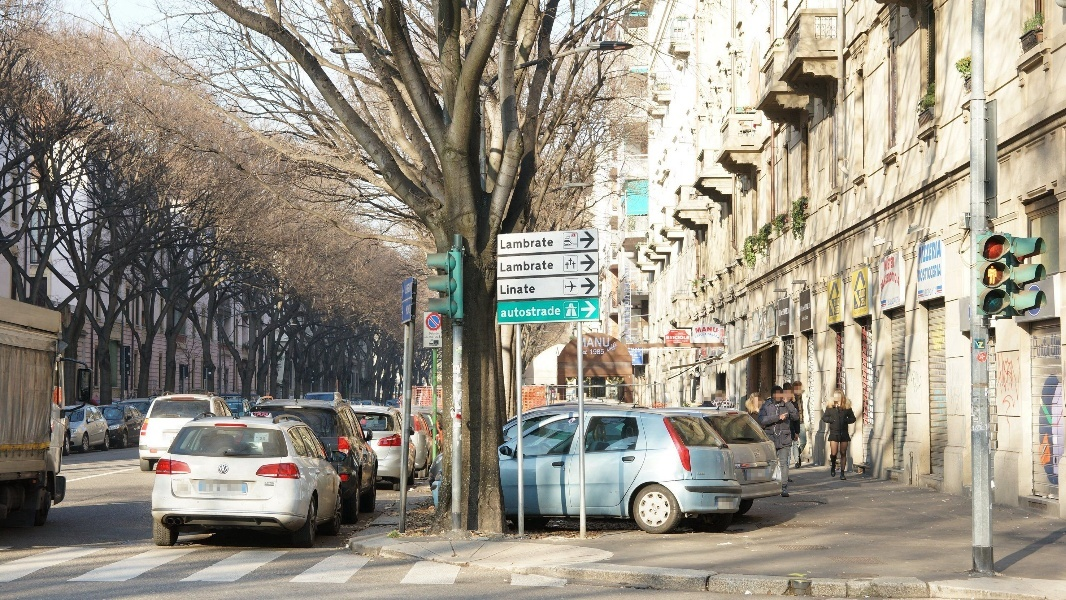text: (625, 261, 640, 340), (997, 352, 1008, 421), (1009, 352, 1020, 421), (853, 287, 864, 316), (881, 272, 896, 292), (929, 241, 942, 264), (627, 346, 640, 364), (833, 296, 841, 323), (929, 264, 941, 282), (1041, 335, 1050, 357), (513, 237, 528, 250), (529, 237, 544, 250), (801, 302, 811, 321), (920, 241, 928, 264), (513, 306, 528, 318), (529, 306, 544, 318), (545, 306, 560, 318), (513, 261, 528, 272), (529, 261, 544, 272), (513, 284, 528, 295), (885, 257, 896, 272), (593, 337, 608, 348), (919, 264, 928, 282), (501, 237, 512, 250), (501, 306, 512, 318), (405, 282, 416, 294), (1034, 335, 1040, 357), (1051, 333, 1056, 359), (609, 342, 619, 355), (501, 261, 512, 272), (501, 284, 512, 295), (545, 237, 554, 250), (406, 304, 416, 315), (1057, 333, 1061, 359), (545, 261, 554, 272), (978, 342, 992, 349), (779, 307, 784, 326), (785, 307, 790, 326), (829, 296, 832, 323), (929, 288, 938, 297), (888, 297, 896, 307), (705, 327, 718, 333), (529, 284, 536, 295), (593, 349, 605, 355), (897, 272, 900, 292), (673, 336, 688, 340), (865, 287, 867, 316), (673, 332, 687, 336), (641, 346, 644, 364), (260, 437, 272, 441), (696, 327, 704, 333), (923, 288, 928, 297), (257, 413, 268, 417), (583, 351, 592, 355), (264, 482, 272, 486), (673, 341, 689, 343), (897, 297, 900, 307), (433, 336, 442, 339), (590, 337, 592, 348), (425, 336, 432, 339), (667, 336, 672, 340), (433, 332, 439, 335), (607, 342, 608, 355), (561, 306, 562, 318), (590, 349, 592, 355), (609, 337, 610, 348), (273, 482, 275, 486), (254, 413, 256, 417), (668, 341, 672, 343), (430, 332, 432, 335), (689, 336, 690, 340), (671, 332, 672, 336)
